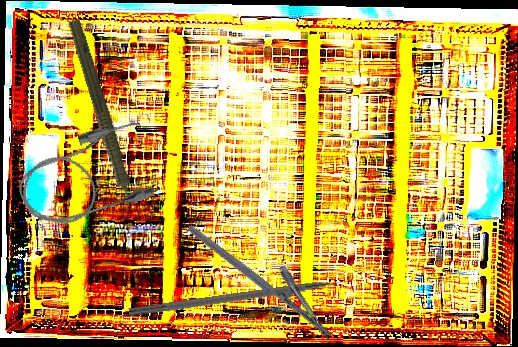Cannula: (8, 115, 164, 237)
Handpiece: (59, 17, 145, 225)
Hook Surgical: (128, 275, 361, 320)
Needle Holder: (186, 204, 348, 342)
